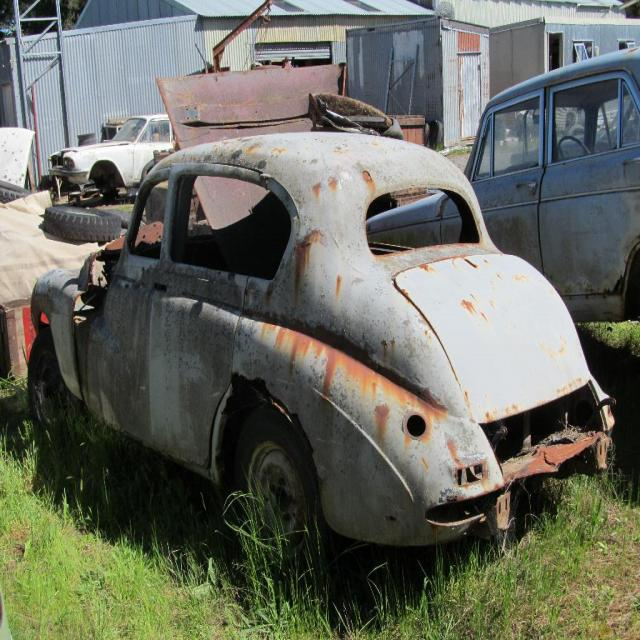other: (25, 133, 617, 589), (362, 47, 639, 322), (47, 116, 176, 190)
